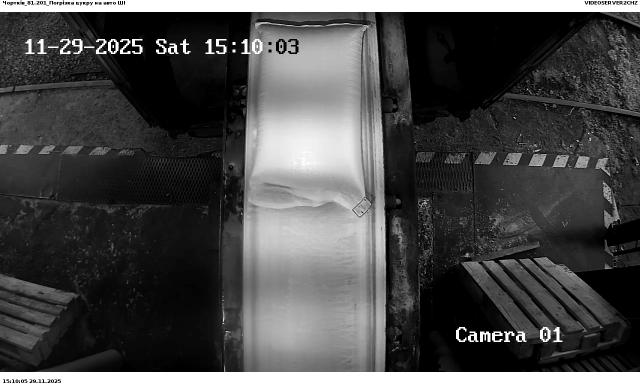bag: (250, 20, 371, 216)
